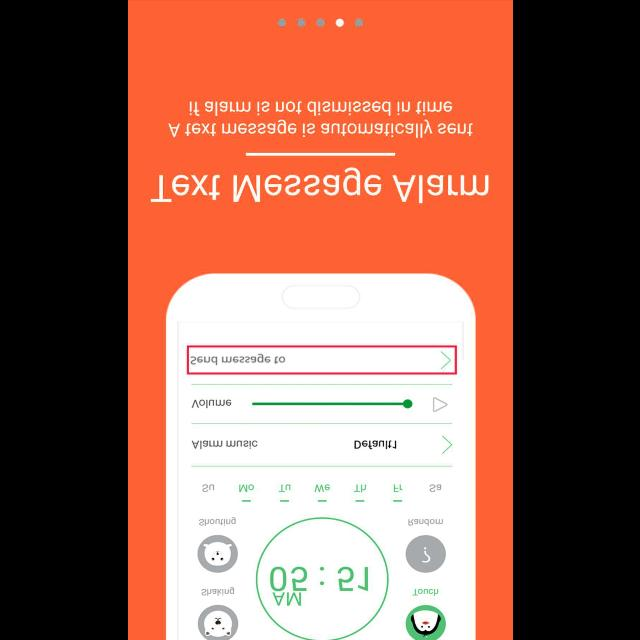image: (164, 273, 476, 639)
pageindicator: (277, 18, 363, 28)
text: (150, 166, 488, 204), (168, 101, 472, 137)
